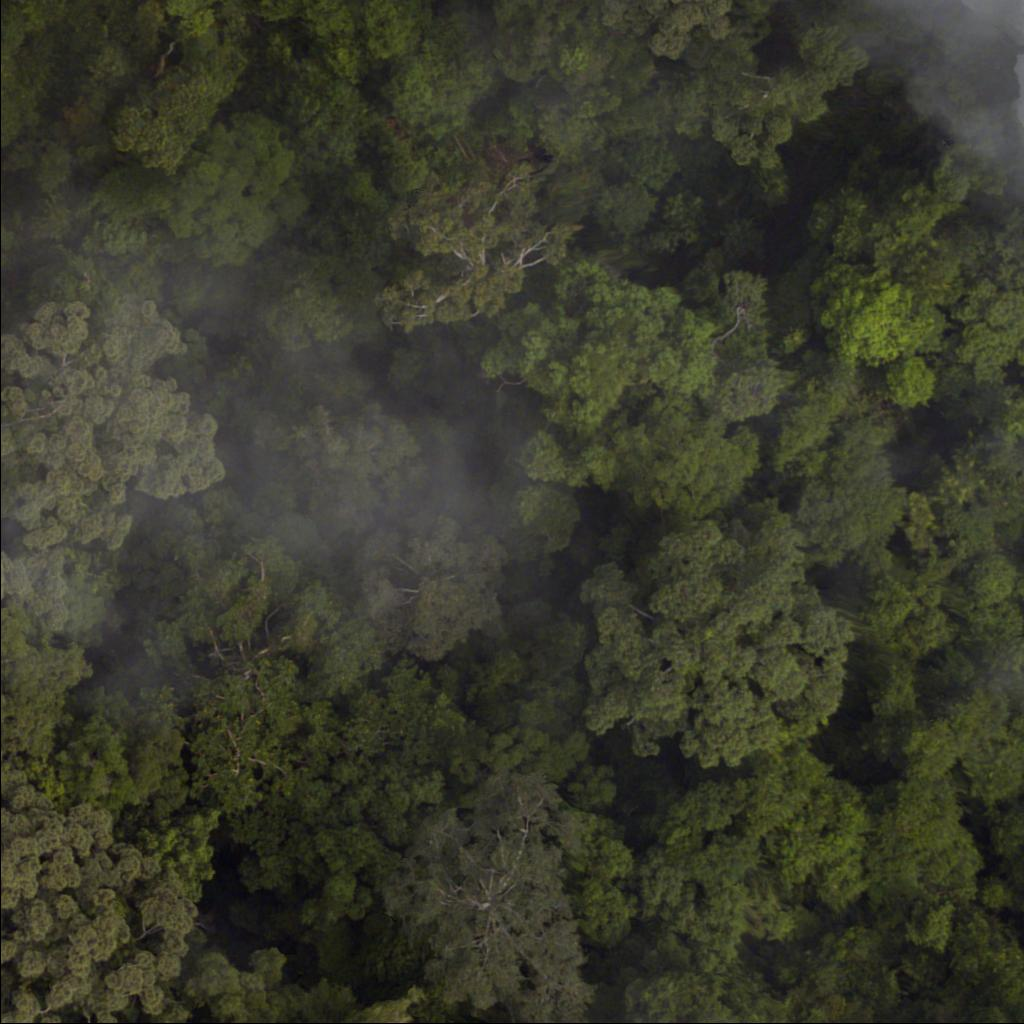crown: (588, 501, 874, 764), (0, 295, 222, 554), (380, 783, 600, 1023), (0, 791, 151, 1023), (0, 615, 85, 787), (587, 0, 750, 55)
